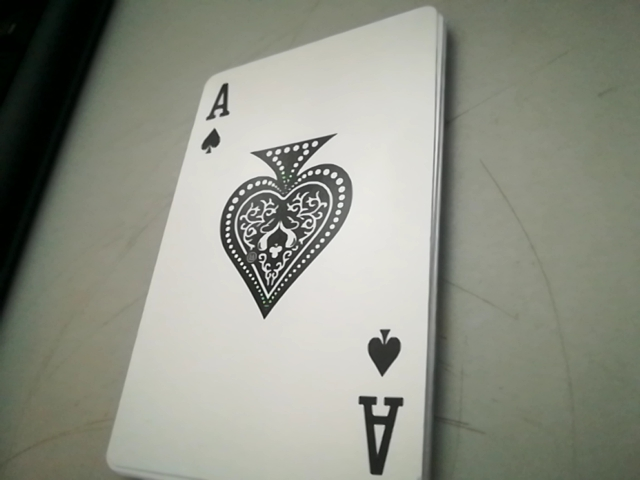ht a: (189, 81, 236, 164)
